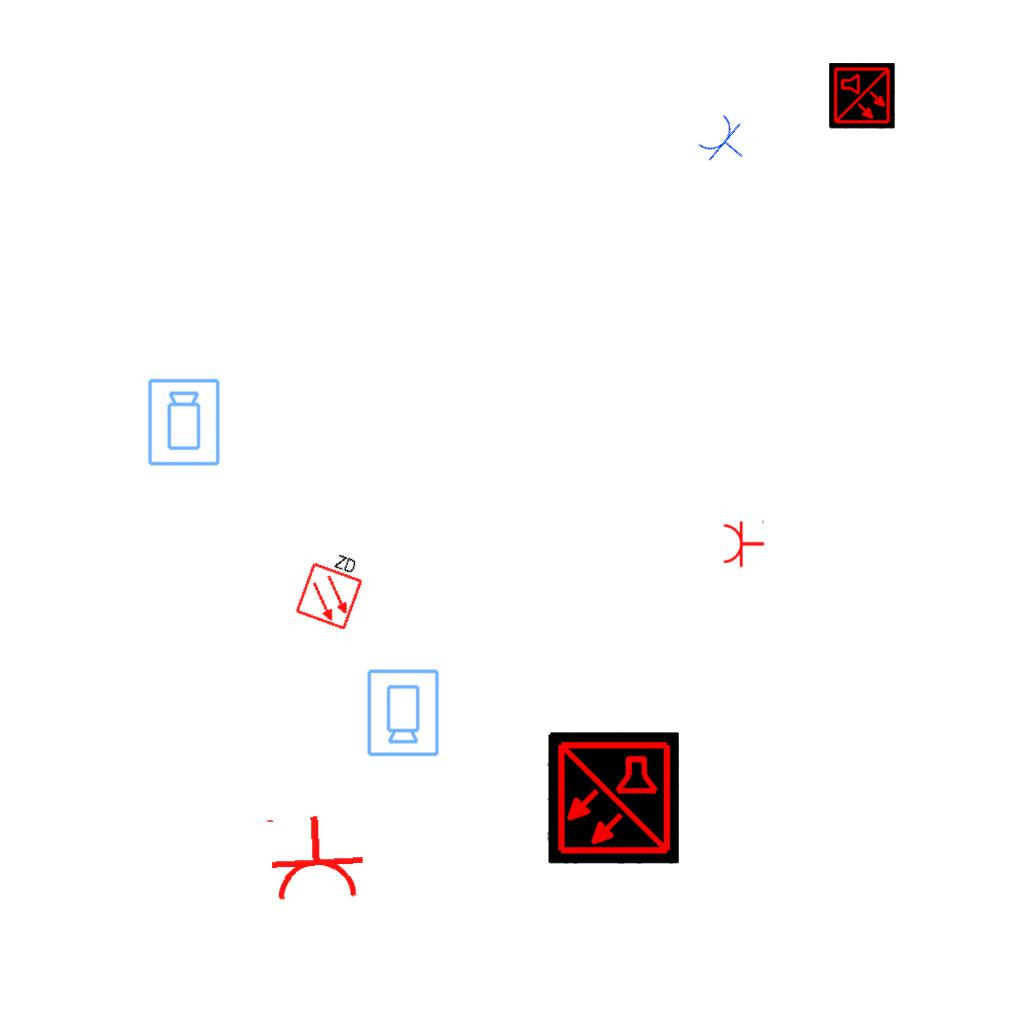KFO_Kamera_mit_Festobjektiv: (146, 377, 223, 468), (364, 667, 441, 758)
OKW_Multisensormelder_(Kombination_optischer_Rauch-Kahlenmonoxid_Waerme-Melder): (547, 732, 679, 864), (829, 63, 895, 129)
Schukosteckdose_einfach: (537, 725, 661, 842), (262, 811, 367, 905), (693, 109, 759, 176), (722, 518, 765, 568)
ZD_Melder_in_Zwischendecke_mit_Revisionsoeffnung_mind_40_x_40_cm: (292, 542, 371, 632)
